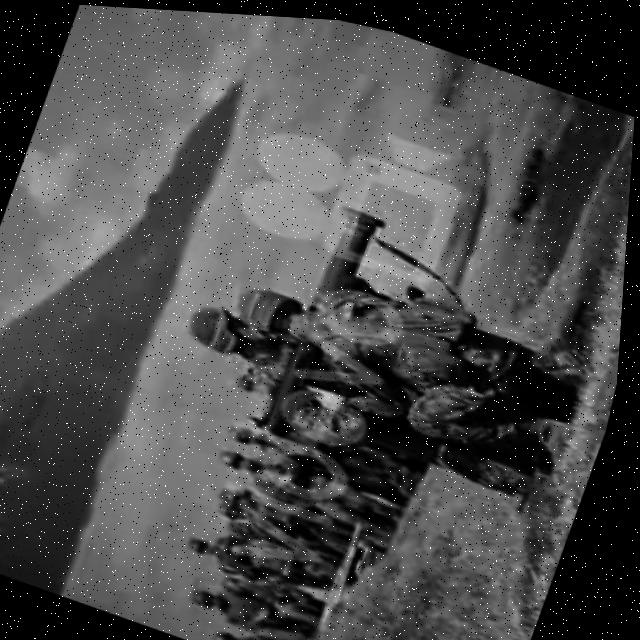rocket: (256, 188, 388, 447)
